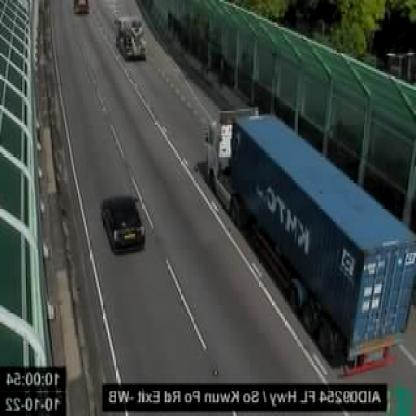Bus: (205, 111, 416, 372)
Car: (100, 192, 146, 254), (75, 1, 89, 14)
Truck: (115, 14, 147, 61)
